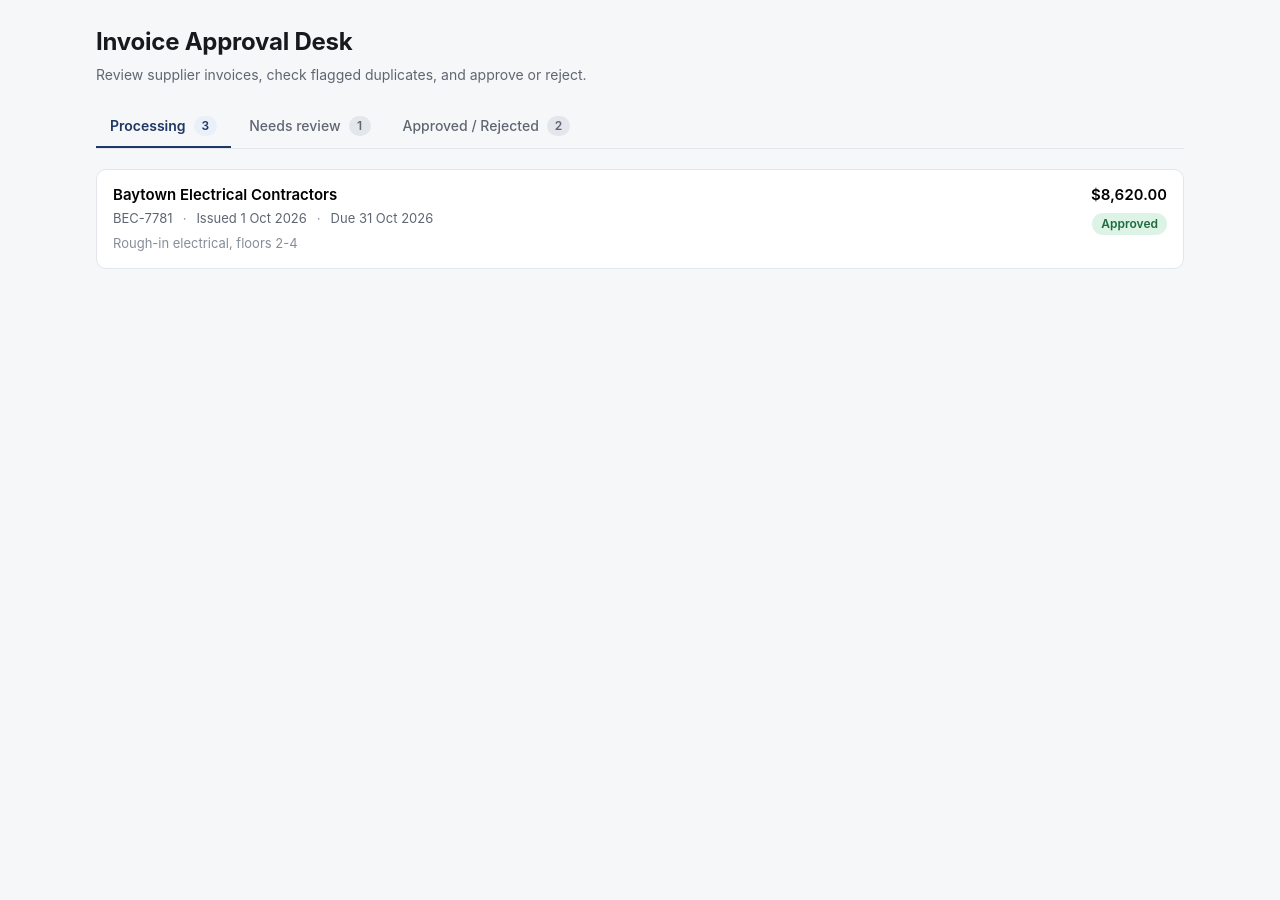
Test: detail drawer › hides the decision buttons when the invoice is in a terminal state
This screenshot has width=1280, height=900.
What coordinates should you click on to do the following:
click the button with aria-label "Open invoice BEC-7781"
I would click on:
 (225, 194)
Its box is 96,169 -> 1184,268.
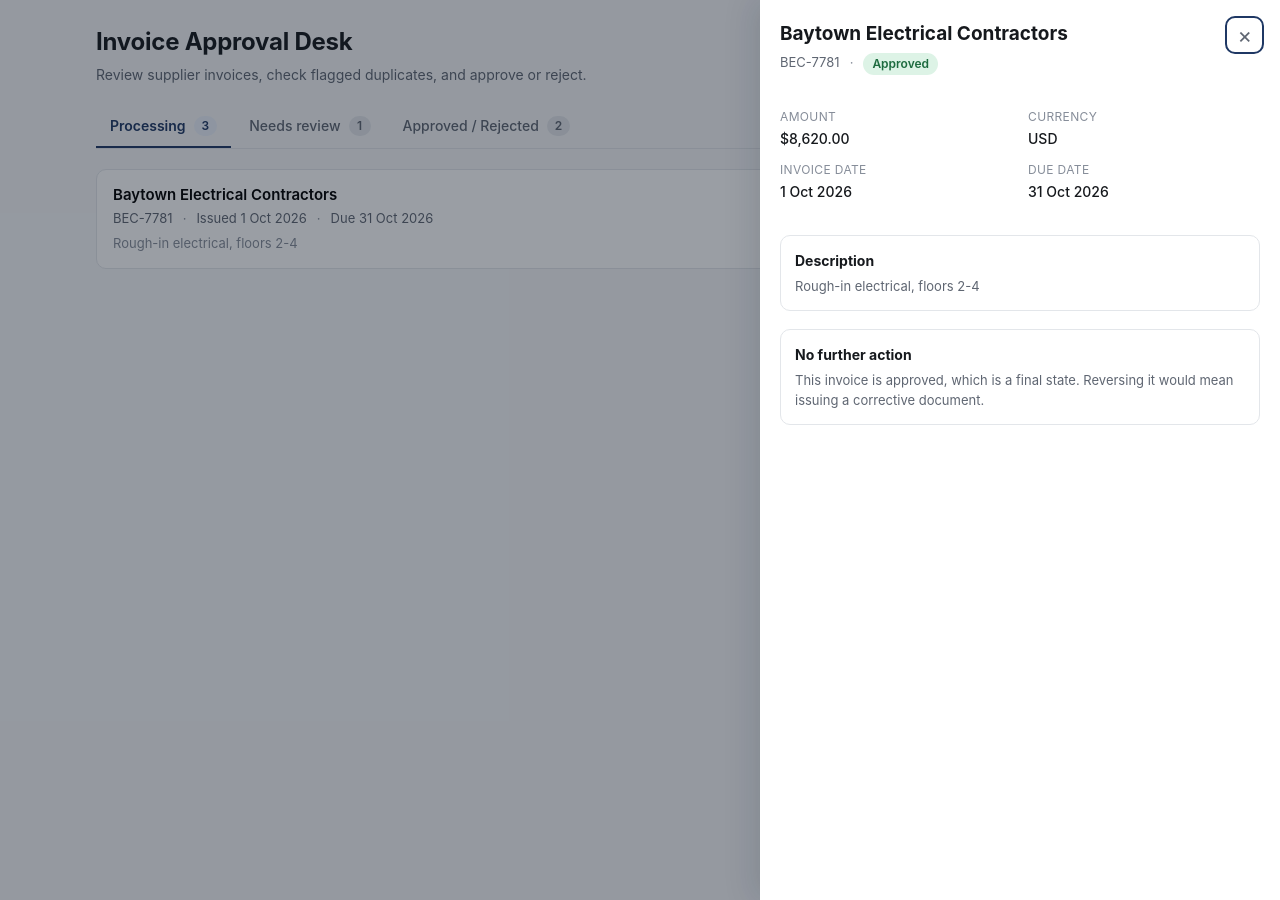
Expected: the heading "No further action" is shown, 795,346 -> 912,363
